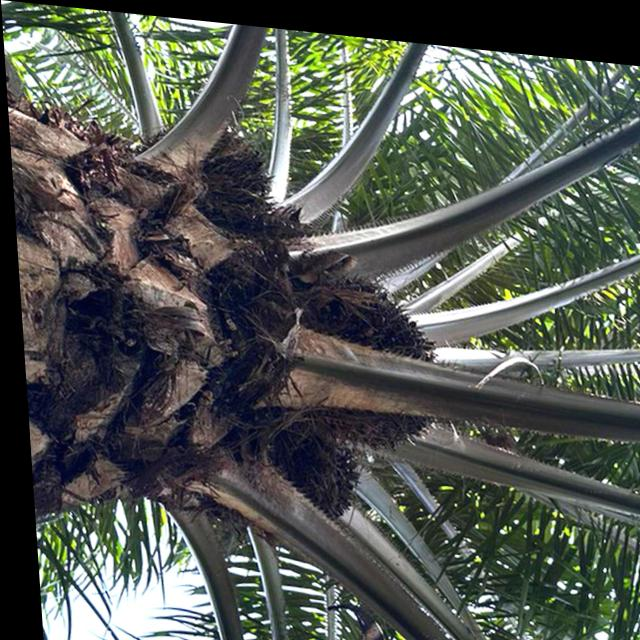ripe: (304, 264, 447, 461)
